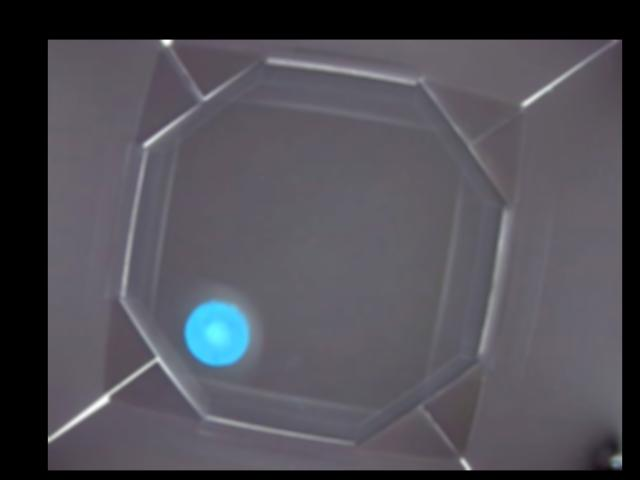Carrot: (184, 301, 247, 362)
